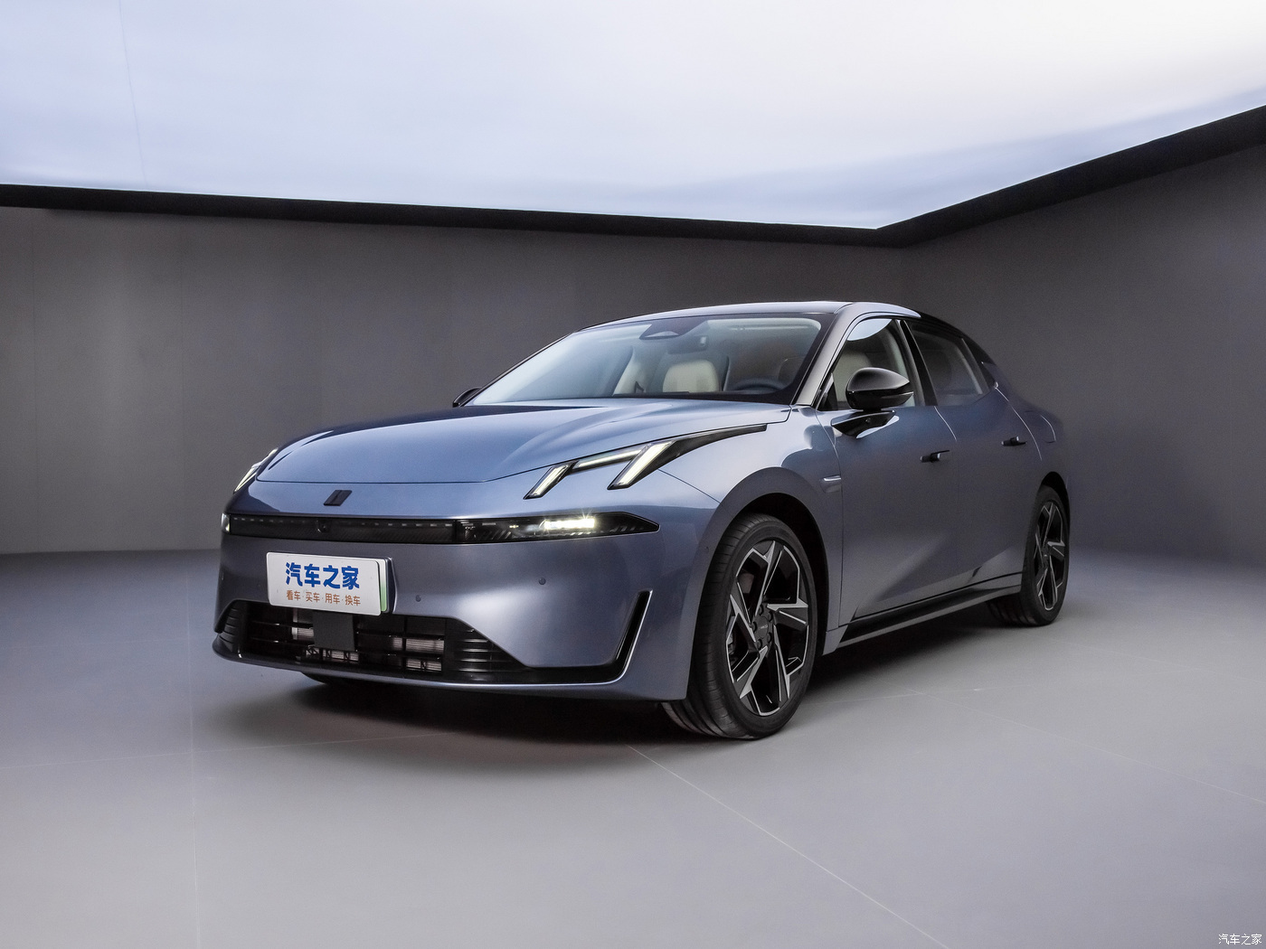LINK&CO: (324, 489, 352, 507)
